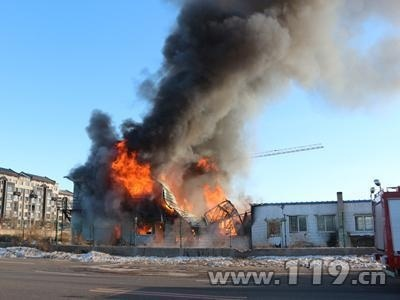fire: (103, 146, 252, 245)
